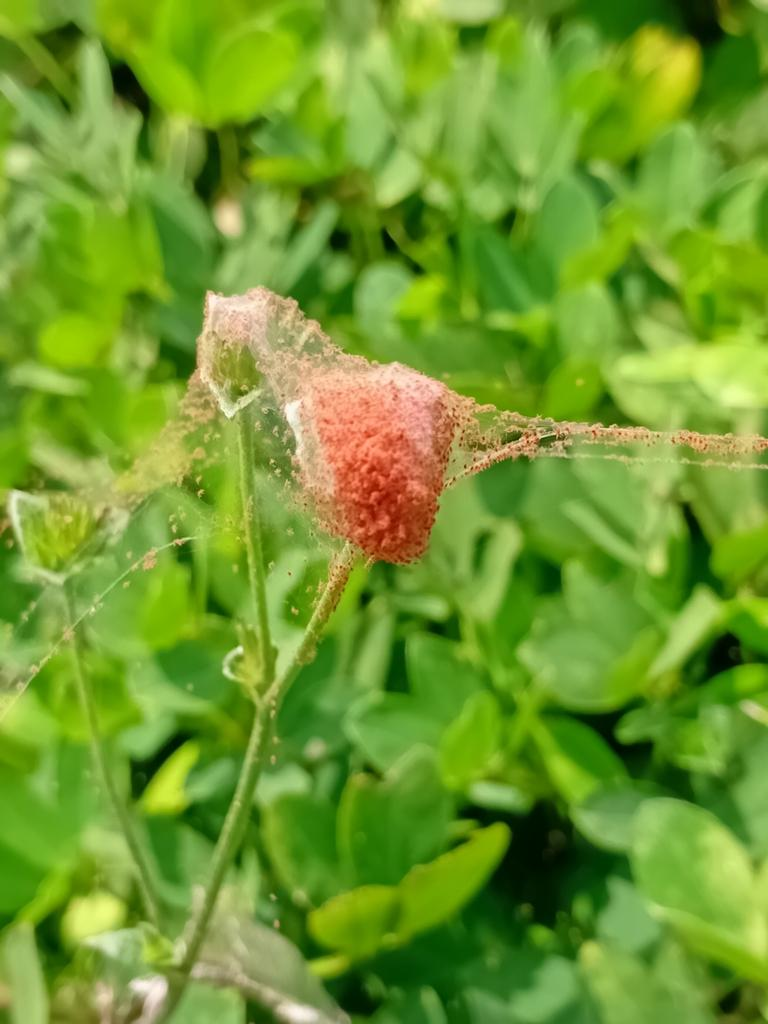tiny_pests: (261, 334, 494, 586)
